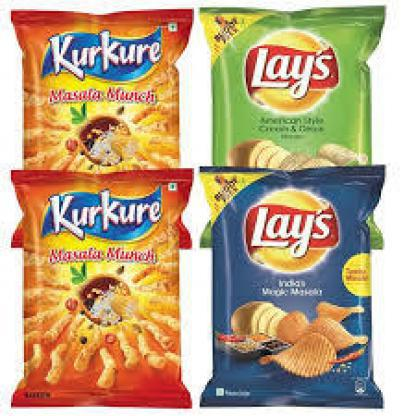cream_and_onion: (200, 3, 382, 248)
indian_magic_masala: (197, 165, 381, 407)
